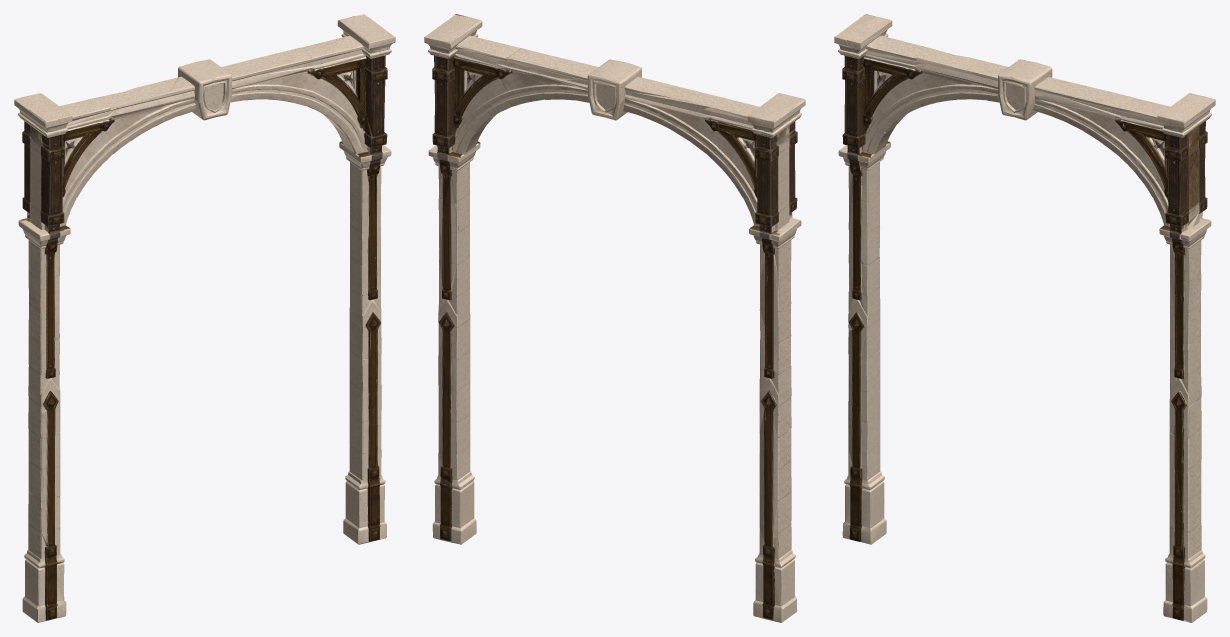
Rendered from portal-v2.glb.
3 views of the same model, side by side, from view 1: azimuth 30°, elevation 25°; view 2: azimuth 150°, elevation 25°; view 3: azimuth 330°, elevation 25° (orthographic).
Visible parts, largest first — view 1: Mesh_0; view 2: Mesh_0; view 3: Mesh_0.
Boxes of the visible parts, x1,y1,x2,y2 form: Mesh_0: (14,14,395,622); Mesh_0: (424,14,805,622); Mesh_0: (834,14,1215,622).
Size of the model in its own units: 1.38 by 1.9 by 0.2161.
Materials: 1 (1 with a texture image).
